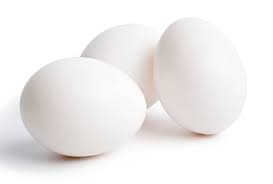eggs: (23, 49, 155, 161), (152, 14, 241, 140), (69, 16, 180, 101)
